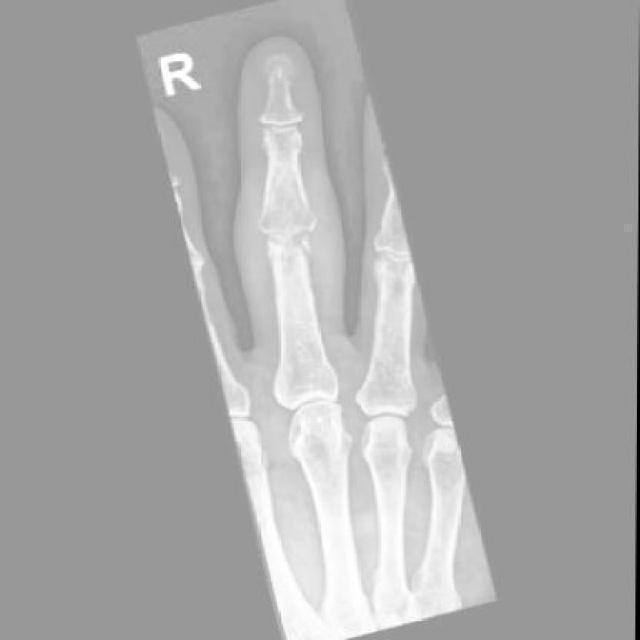bone: (368, 254, 419, 302), (265, 229, 318, 274)
